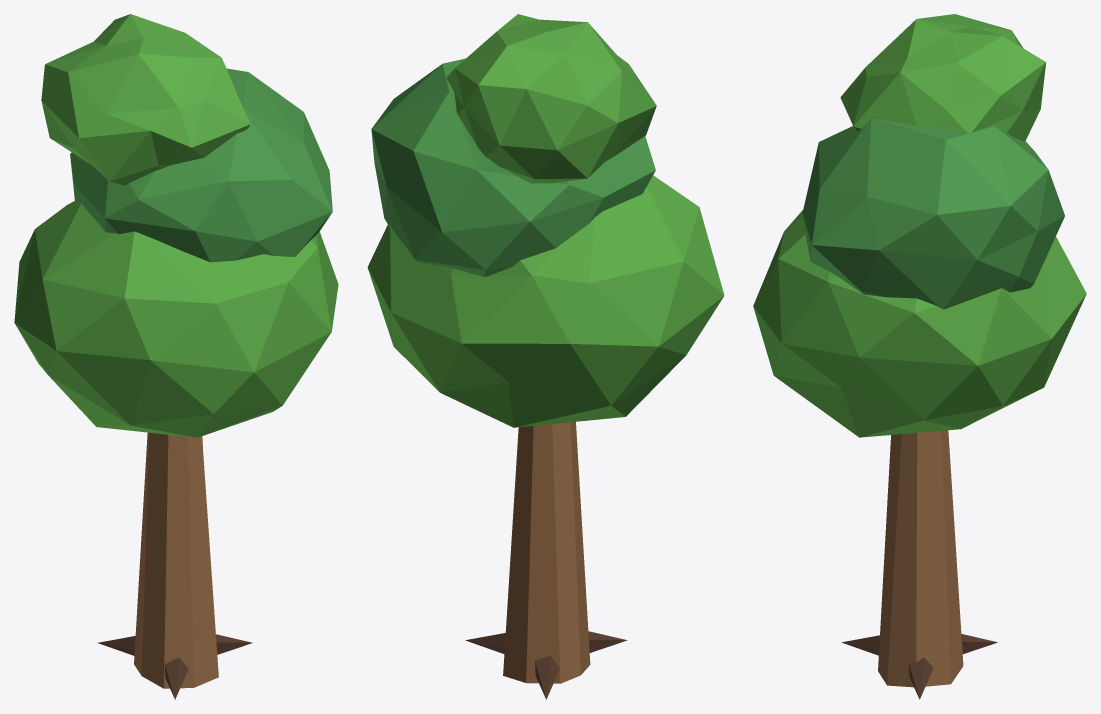
File: tree.obj
3 renders of one model, left to right at view 1: azimuth 30°, elevation 25°; view 2: azimuth 150°, elevation 25°; view 3: azimuth 270°, elevation 25°, orthographic. The views are drawn at different scales.
Parts seen in each view (by area): view 1: tree; view 2: tree; view 3: tree.
Part boxes in pixels (x1,y1,x2,y2): tree: [14, 14, 338, 699]; tree: [367, 14, 724, 699]; tree: [753, 14, 1086, 699].
Size of the model in its own units: 7.29 by 15.29 by 7.29.
Materials: 1 (1 with a texture image).
